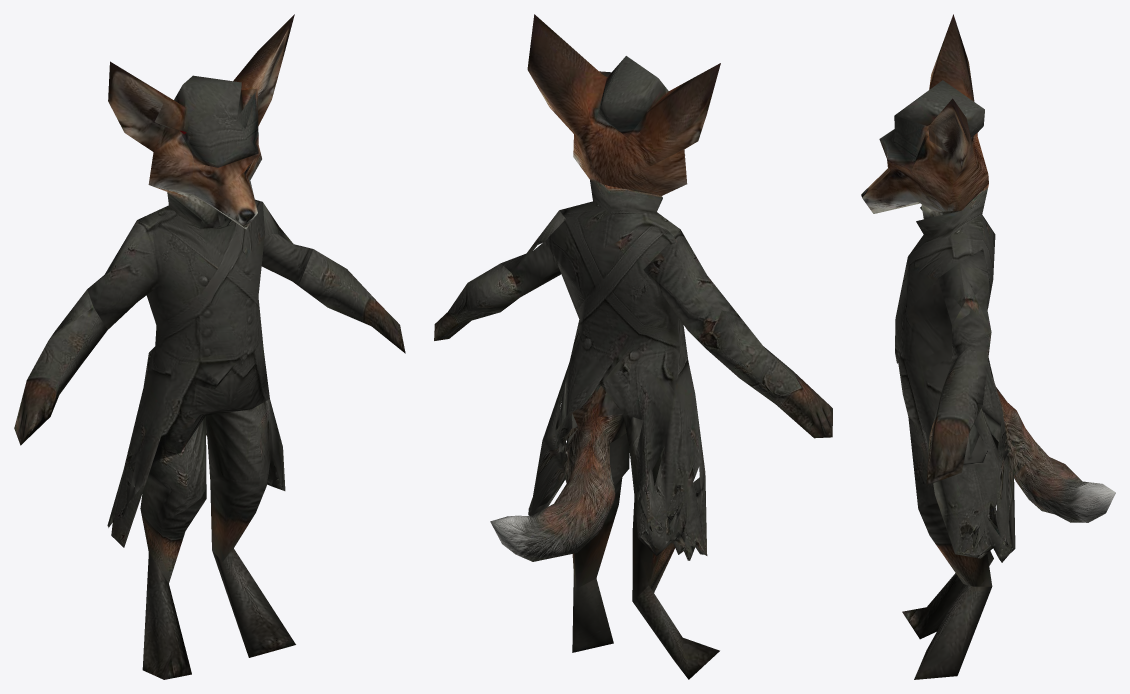
File: infantry_mix_gibs.glb
3 views of the same model, side by side, from view 1: azimuth 30°, elevation 25°; view 2: azimuth 150°, elevation 25°; view 3: azimuth 270°, elevation 25° (orthographic). The views are drawn at different scales.
Visible parts, largest first — view 1: Body.001, Head.001, Upleg.L.001, Upleg.R.001, Hat.001, Forarm.R.001, Arm.R.001, Forarm.L.001, Leg.L.001, Leg.R.001, Arm.L.001; view 2: Body.001, Head.001, Forarm.R.001, Arm.R.001, Hat.001, Forarm.L.001, Leg.R.001, Upleg.L.001, Leg.L.001, Arm.L.001, Upleg.R.001; view 3: Body.001, Head.001, Forarm.L.001, Hat.001, Arm.L.001, Upleg.L.001, Leg.L.001, Leg.R.001.
Part boxes in pixels (x1=…): Body.001: x1=107, y1=192, x2=285, y2=547; Head.001: x1=108, y1=14, x2=294, y2=229; Upleg.L.001: x1=206, y1=399, x2=270, y2=561; Upleg.R.001: x1=140, y1=416, x2=206, y2=583; Hat.001: x1=174, y1=75, x2=258, y2=167; Forarm.R.001: x1=14, y1=289, x2=107, y2=445; Arm.R.001: x1=87, y1=220, x2=158, y2=329; Forarm.L.001: x1=293, y1=249, x2=405, y2=353; Leg.L.001: x1=212, y1=548, x2=295, y2=657; Leg.R.001: x1=142, y1=553, x2=191, y2=679; Arm.L.001: x1=261, y1=202, x2=313, y2=284; Body.001: x1=490, y1=179, x2=707, y2=561; Head.001: x1=527, y1=14, x2=720, y2=195; Forarm.R.001: x1=706, y1=310, x2=832, y2=438; Arm.R.001: x1=643, y1=229, x2=736, y2=348; Hat.001: x1=597, y1=56, x2=668, y2=137; Forarm.L.001: x1=434, y1=263, x2=520, y2=340; Leg.R.001: x1=632, y1=585, x2=719, y2=679; Upleg.L.001: x1=567, y1=413, x2=629, y2=588; Leg.L.001: x1=572, y1=573, x2=613, y2=652; Arm.L.001: x1=501, y1=210, x2=565, y2=296; Upleg.R.001: x1=629, y1=446, x2=677, y2=601; Body.001: x1=895, y1=184, x2=1115, y2=562; Head.001: x1=861, y1=14, x2=988, y2=219; Forarm.L.001: x1=926, y1=332, x2=991, y2=485; Hat.001: x1=879, y1=80, x2=984, y2=169; Arm.L.001: x1=938, y1=249, x2=991, y2=361; Upleg.L.001: x1=908, y1=417, x2=992, y2=586; Leg.L.001: x1=914, y1=584, x2=991, y2=679; Leg.R.001: x1=902, y1=559, x2=993, y2=639.
Size of the model in its own units: 0.6448 by 0.9888 by 0.3822.
2 materials, 1 textured.
